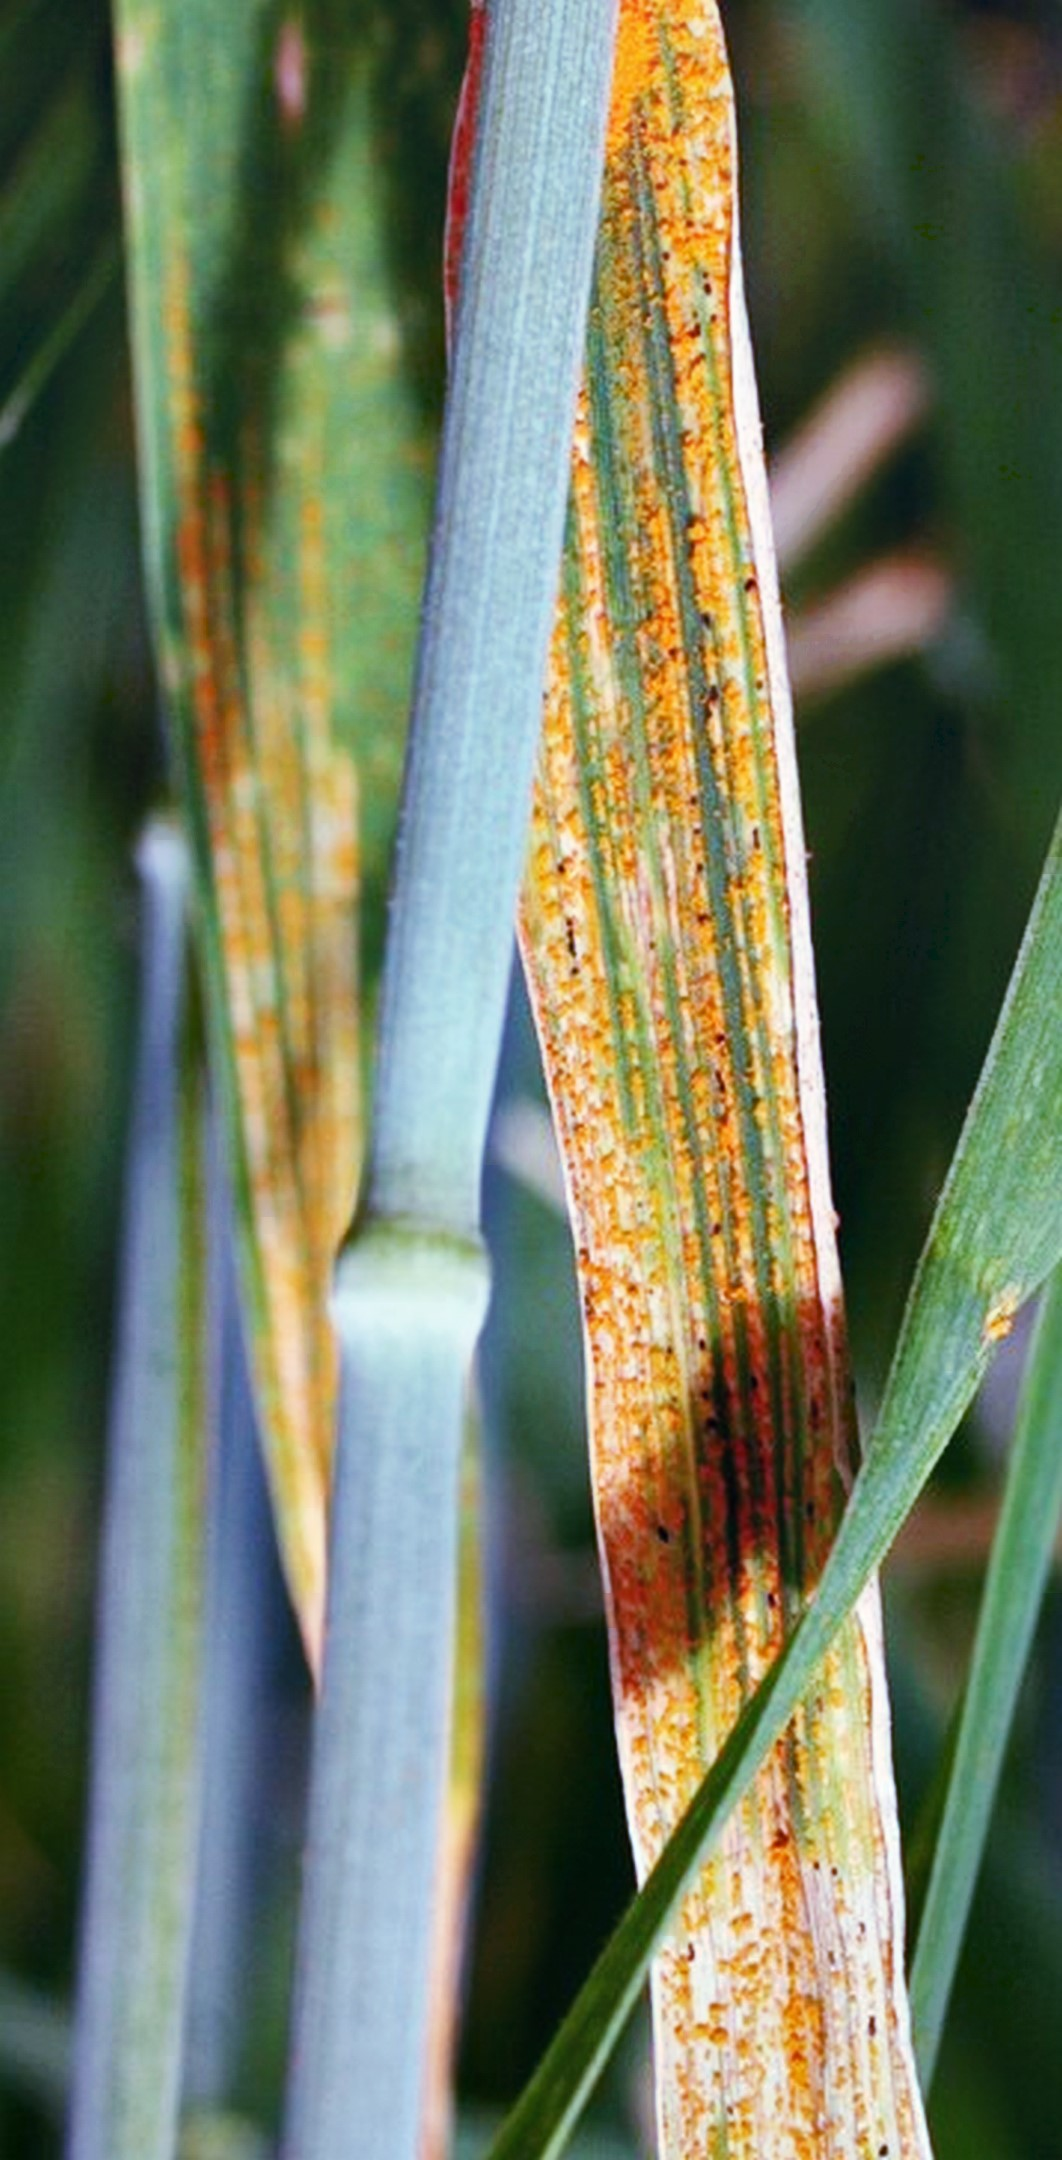Leaf Rust: (558, 270, 944, 2119)
